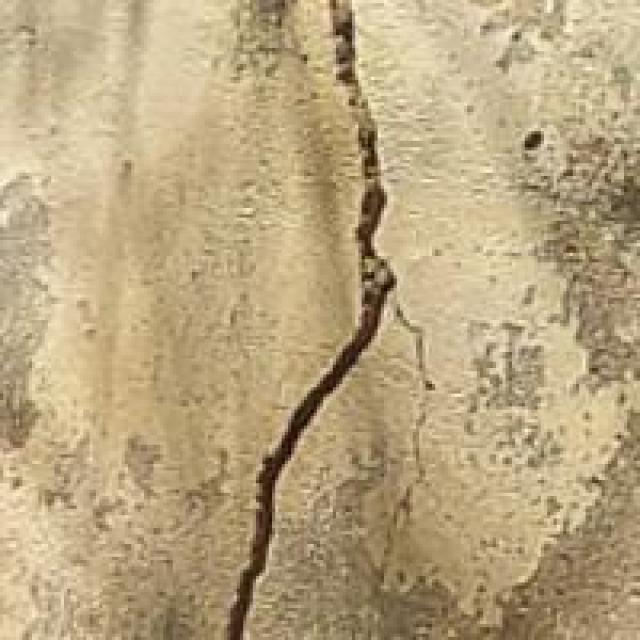crack: (186, 0, 454, 637)
